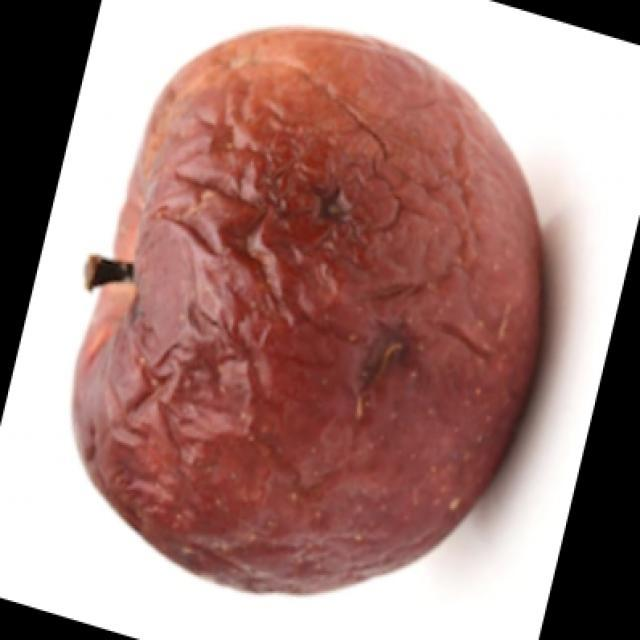Rotten: (74, 27, 514, 583)
